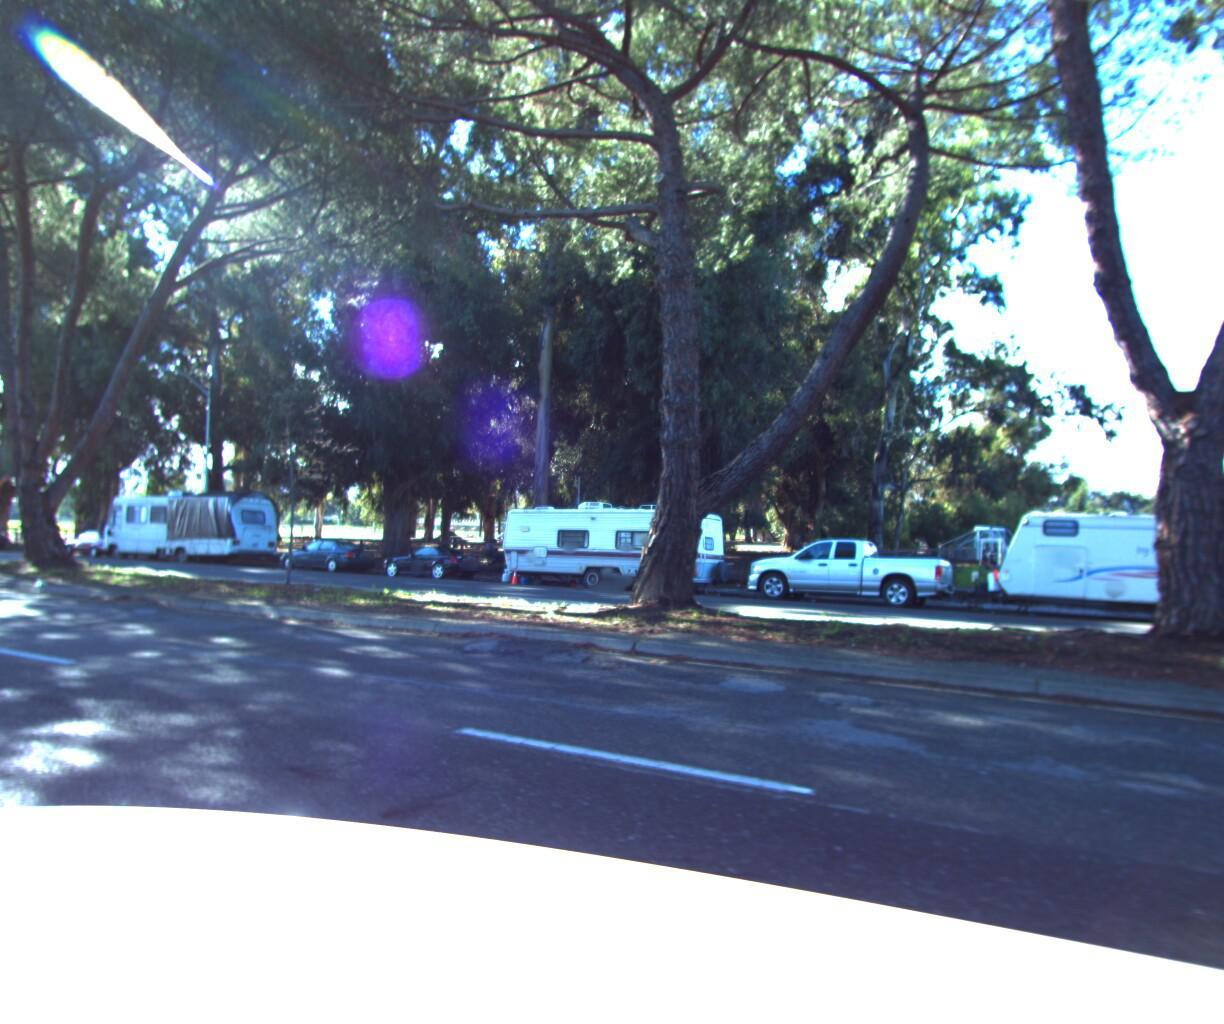car: (735, 531, 960, 612), (371, 539, 484, 580), (269, 532, 383, 571), (57, 524, 139, 554), (0, 519, 12, 546)
other_vehicle: (957, 494, 1224, 646), (476, 493, 738, 596), (96, 483, 286, 562)
